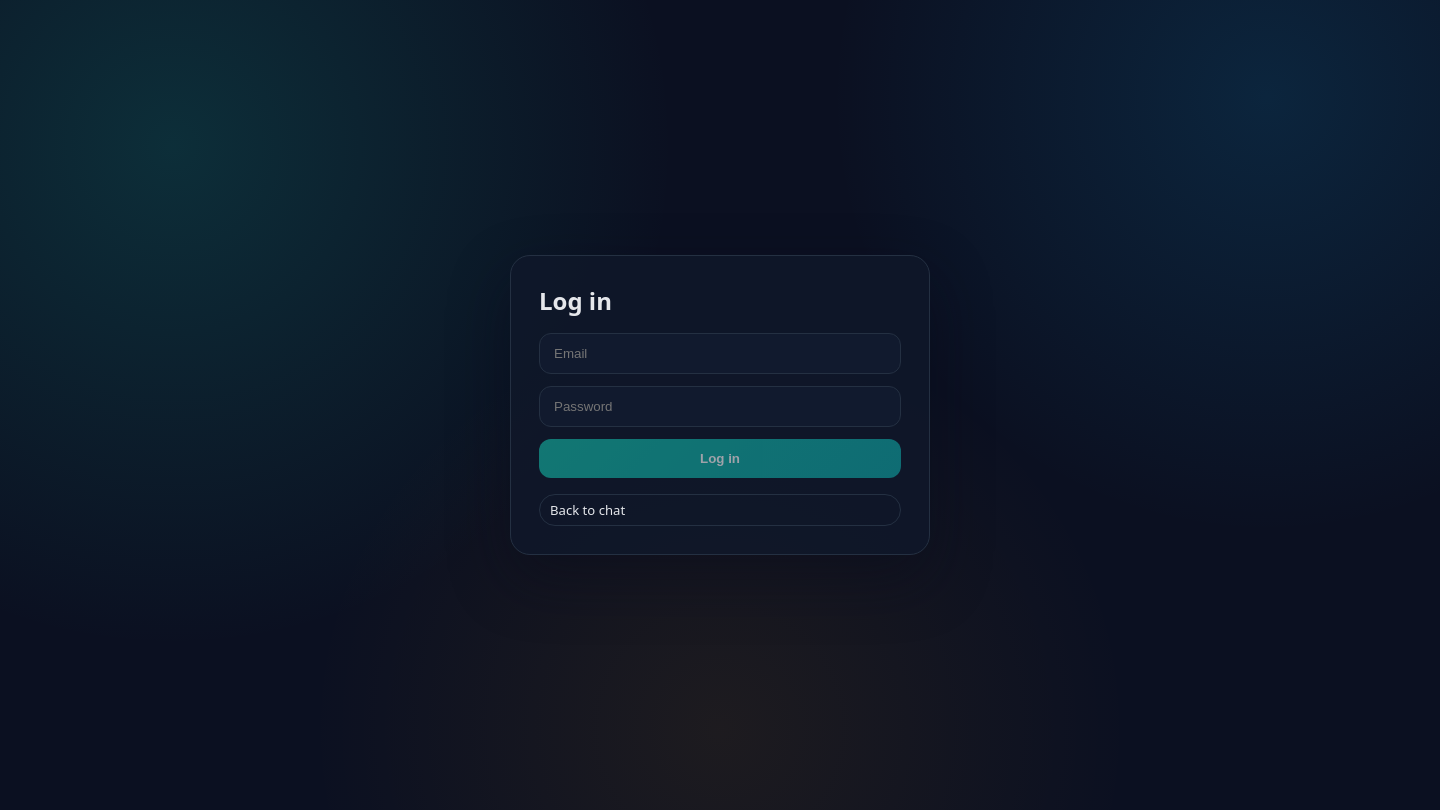
Login Page › enables button when both fields are filled
Type "test@example.com" into the field with placeholder "Email" at (720, 354), box [539,333,901,374]
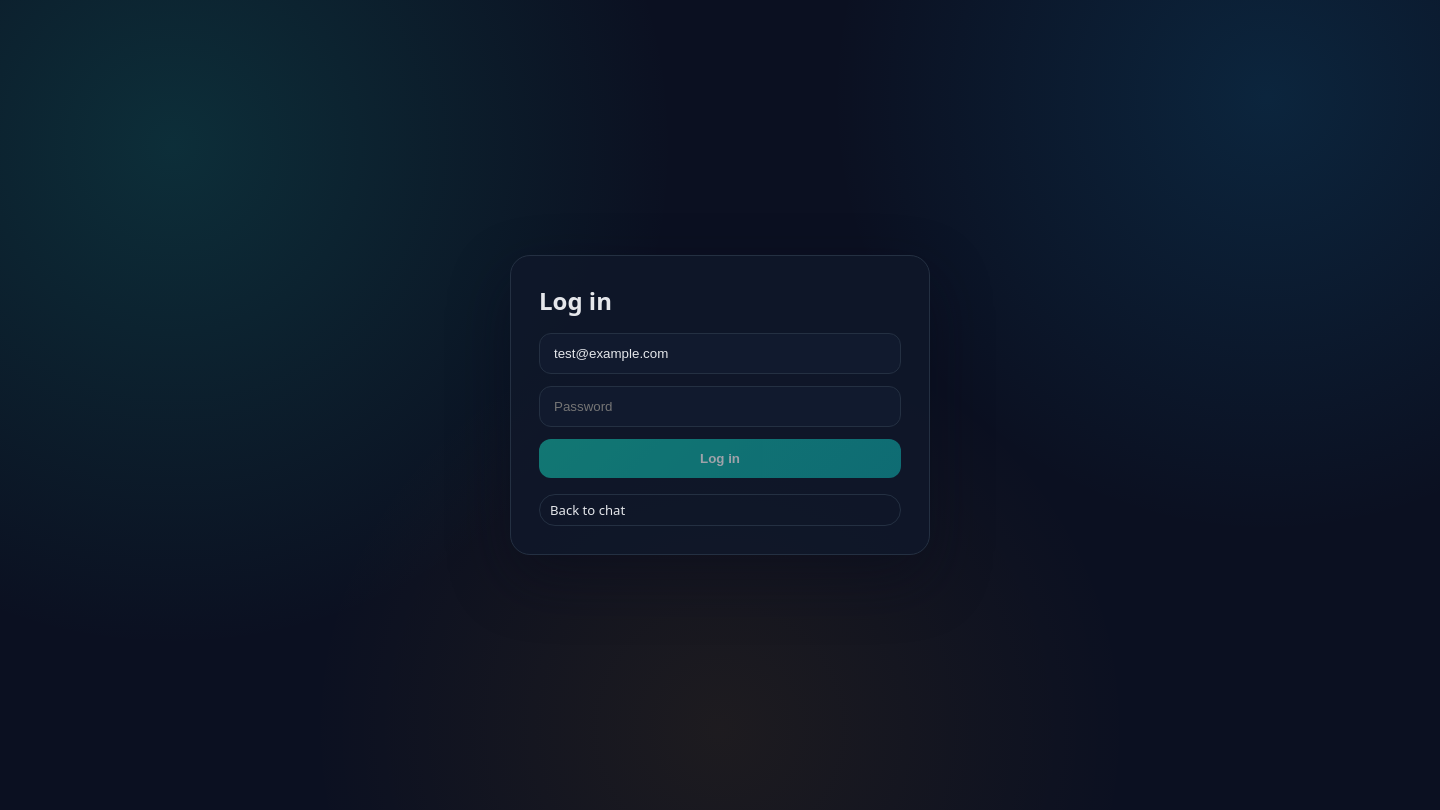
Type "password" into the password field with placeholder "Password" at (720, 406), box [539,386,901,427]
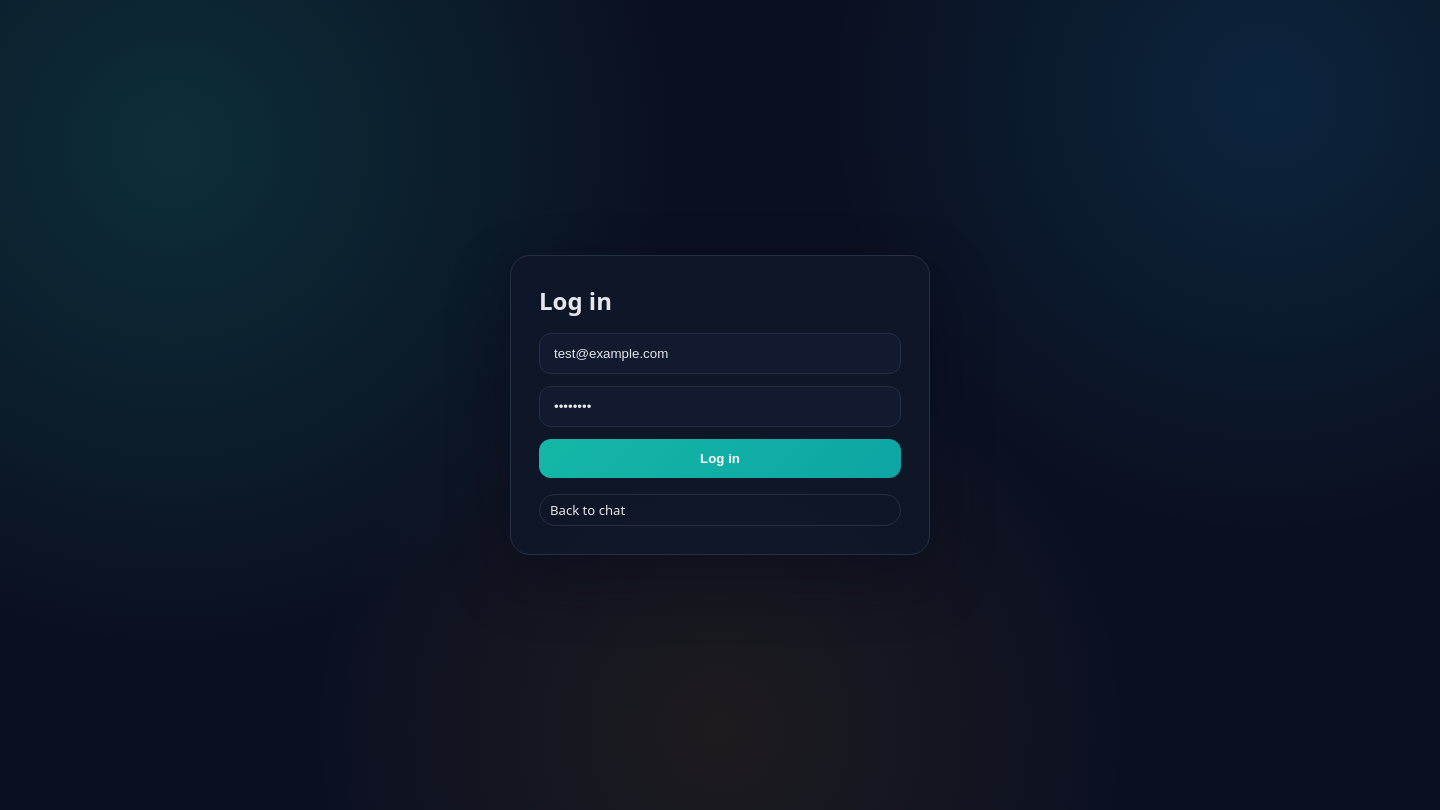
Check: the button "Log in" is enabled, box [539,439,901,478]
